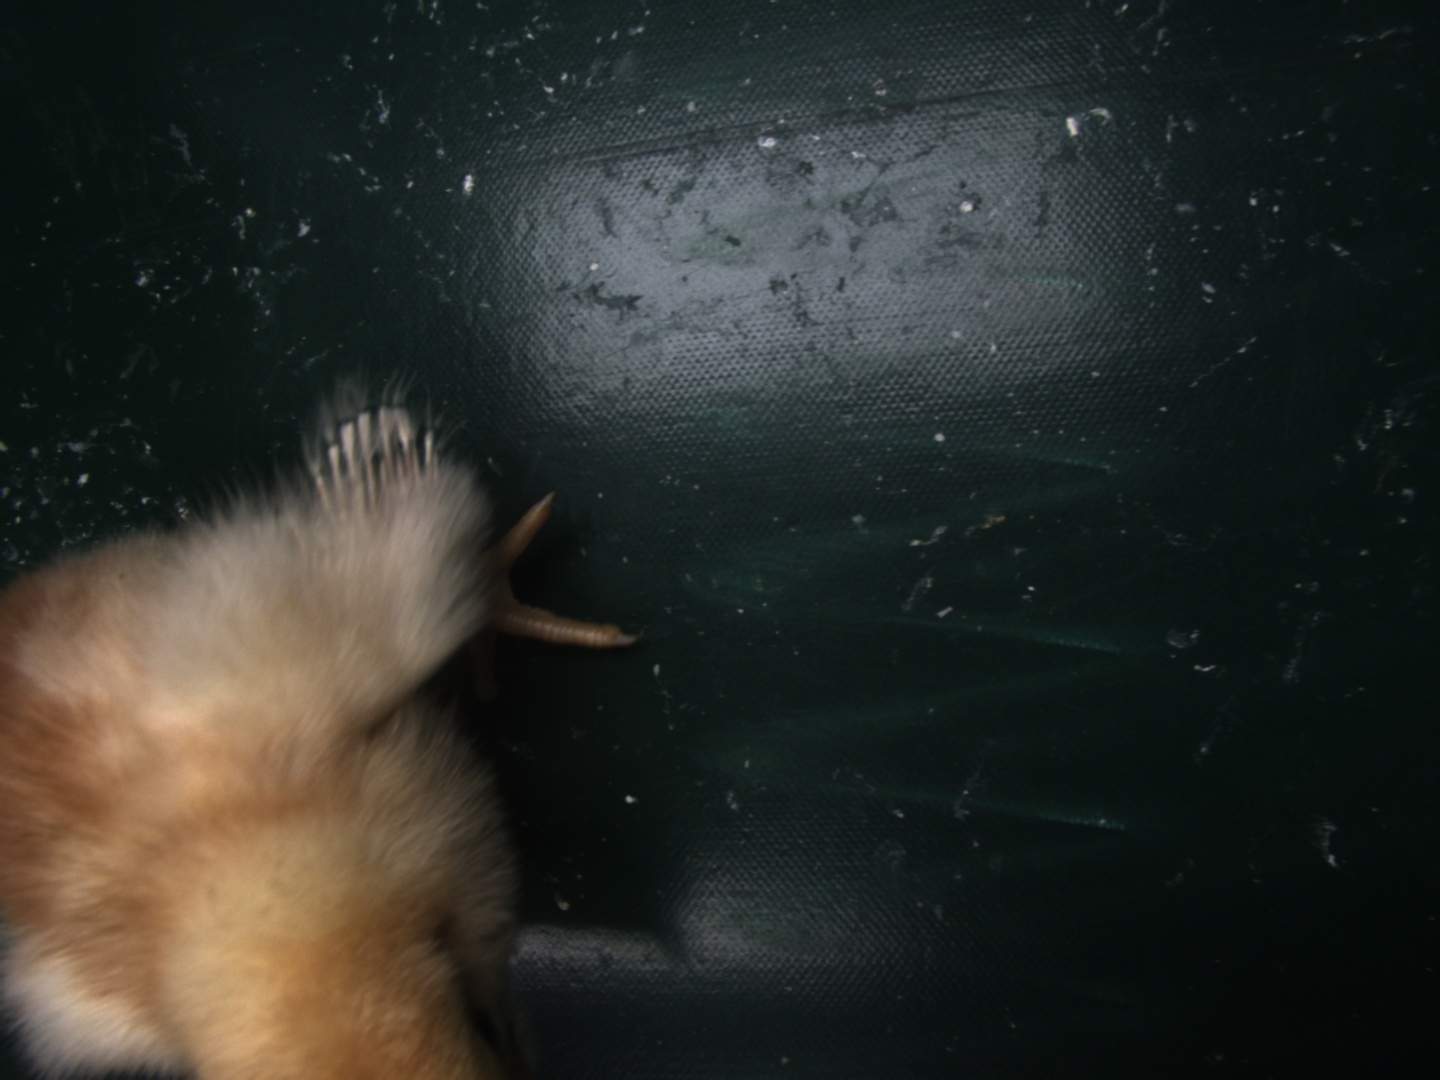female: (310, 405, 438, 512)
